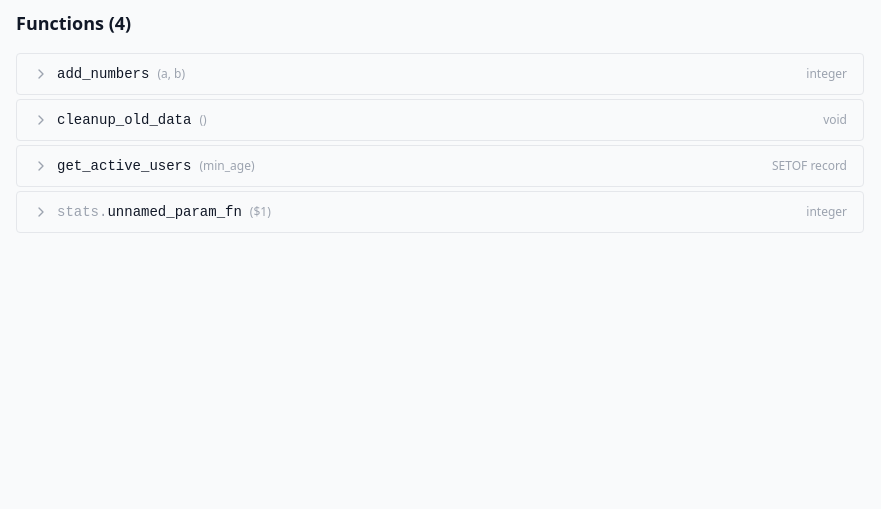
Test: FunctionBrowser › displays error when execution fails
Click the text "add_numbers" at (103, 74), box [57,64,149,84]
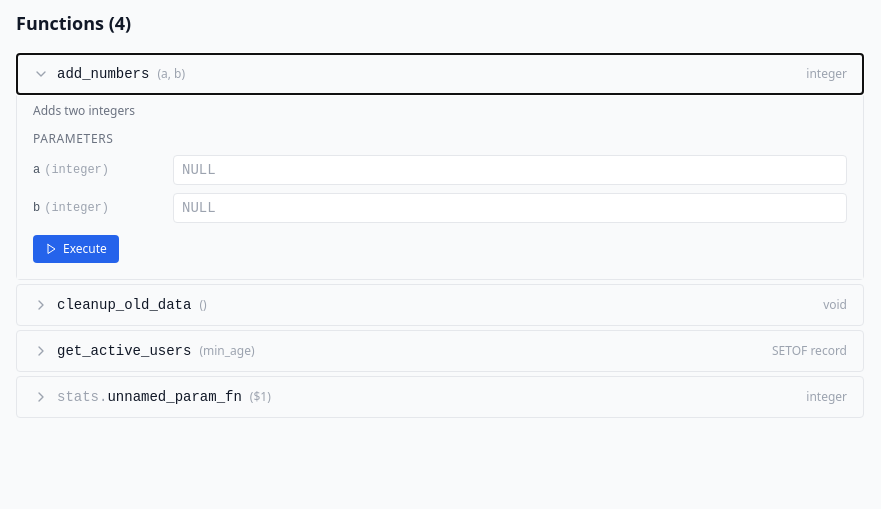
Click the button "Execute" at (76, 249), box [33,235,119,263]
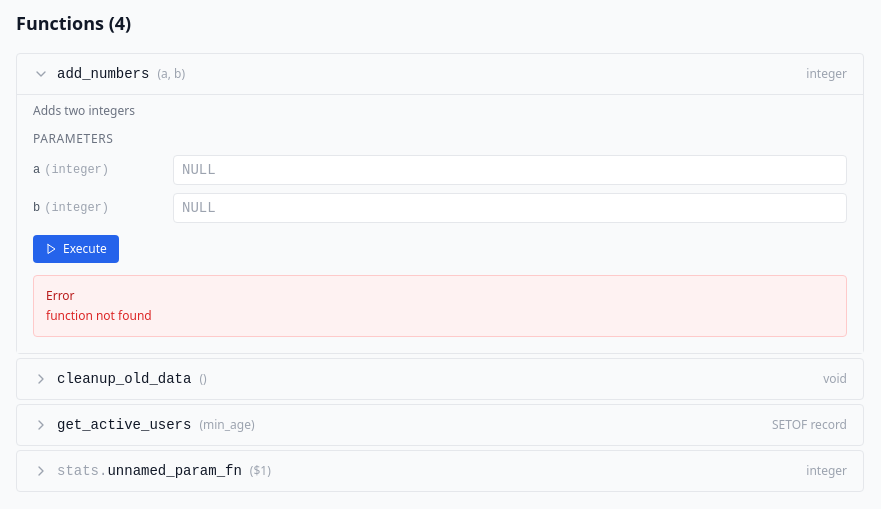
Expected: the text "Error" is shown, [46,287,75,304]
Expected: the text "function not found" is shown, [46,307,152,324]
